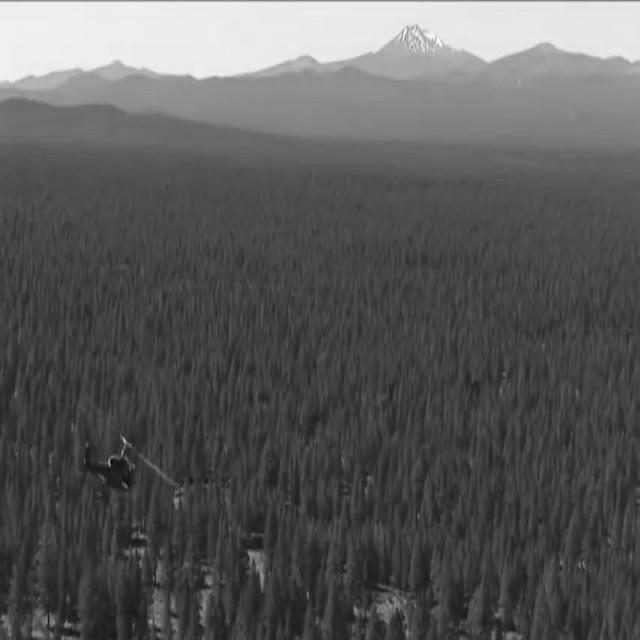helikopter: (67, 413, 179, 519)
